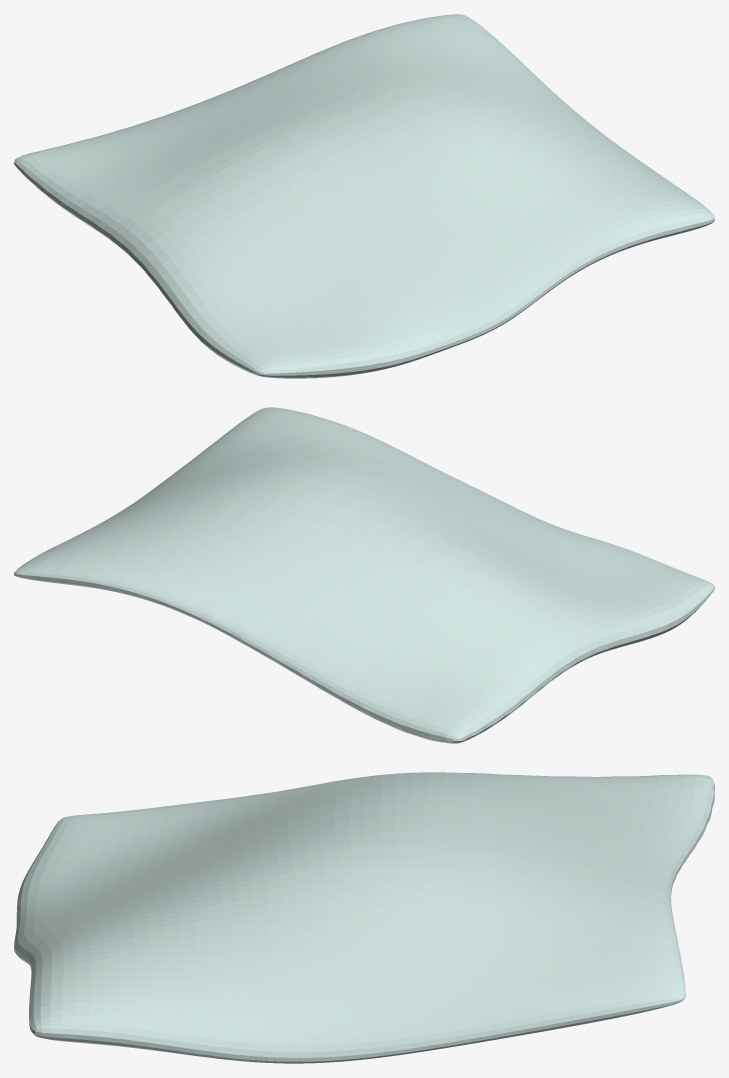
File: Pano.fbx
The picture shows the model from 3 angles, top to bottom: view 1: azimuth 30°, elevation 25°; view 2: azimuth 150°, elevation 25°; view 3: azimuth 270°, elevation 25°; orthographic projection. The views are drawn at different scales.
Visible parts, largest first — view 1: Pano; view 2: Pano; view 3: Pano.
Boxes of the visible parts, x1,y1,x2,y2 form: Pano: (14, 14, 714, 378); Pano: (14, 407, 714, 743); Pano: (14, 772, 714, 1063).
Size of the model in its own units: 196 by 51.32 by 193.
